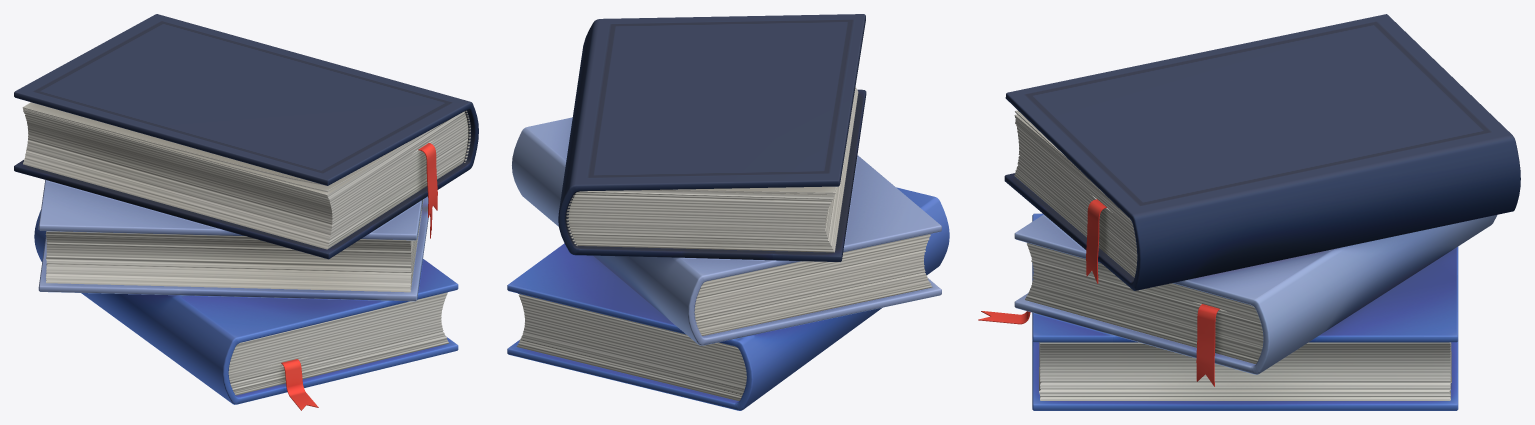
The model's file is buku_vr_latihan.glb.
The picture shows the model from 3 angles, left to right: view 1: azimuth 30°, elevation 25°; view 2: azimuth 150°, elevation 25°; view 3: azimuth 270°, elevation 25°; orthographic projection. The views are drawn at different scales.
Visible parts, largest first — view 1: node_id30_1; view 2: node_id30_1; view 3: node_id30_1.
Part boxes in pixels (x1=…): node_id30_1: x1=14, y1=14, x2=478, y2=410; node_id30_1: x1=507, y1=14, x2=949, y2=410; node_id30_1: x1=978, y1=14, x2=1520, y2=410.
Size of the model in its own units: 0.512 by 0.2607 by 0.5319.
1 material, 1 textured.
